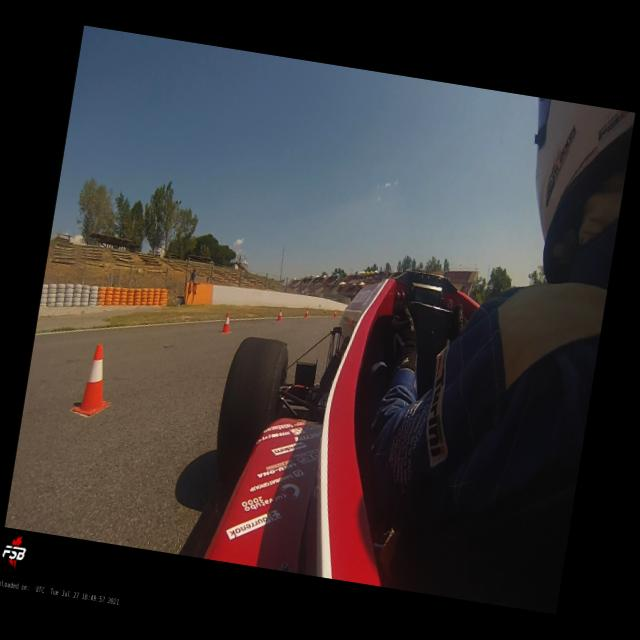orange_cone: (72, 342, 119, 419), (222, 312, 232, 333), (278, 309, 284, 321), (305, 308, 309, 318), (334, 310, 337, 317)
yellow_cone: (324, 309, 326, 313)
